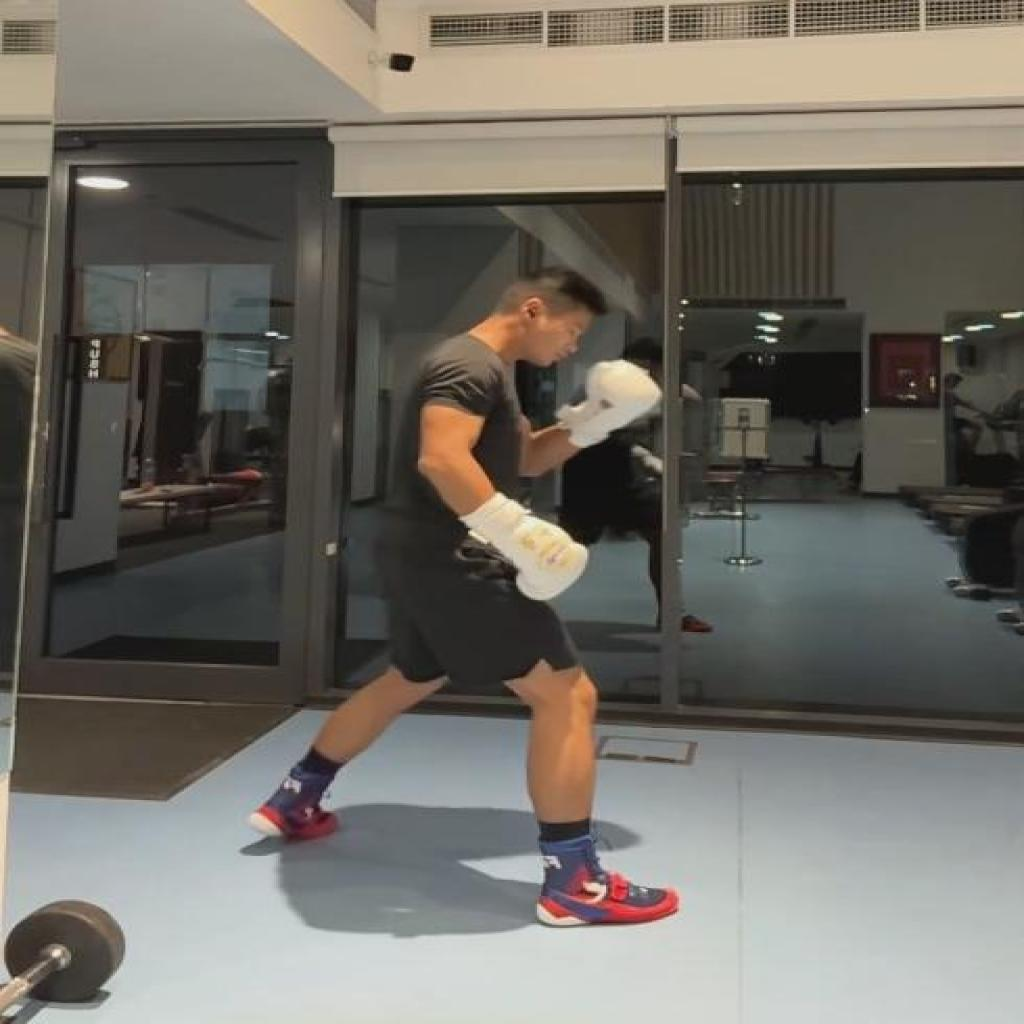no punch: (249, 262, 681, 933)
